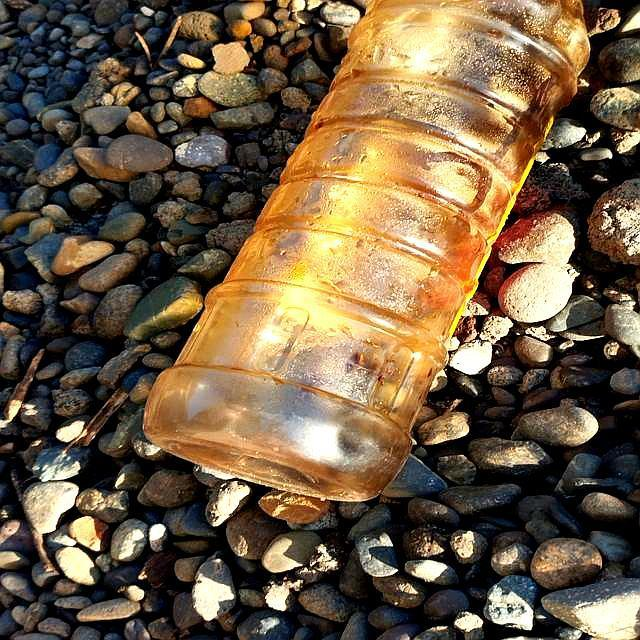Non-biodegradable: (123, 1, 619, 537)
